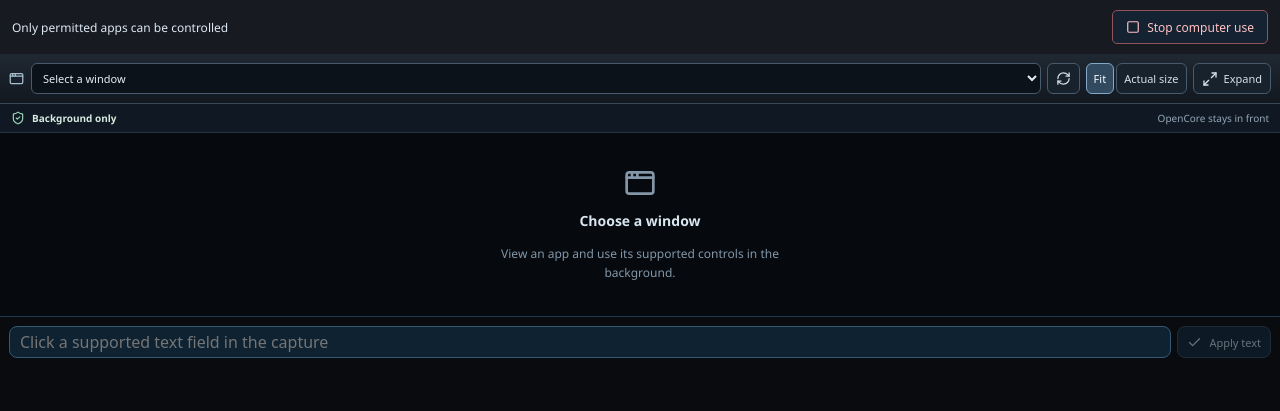
Test: shows a capture failure instead of an endless capturing message
The image size is (1280, 411).
Select "Notes" in the dropdown named "Window" at (536, 78), box top-left (31, 63), bottom-right (1041, 94)
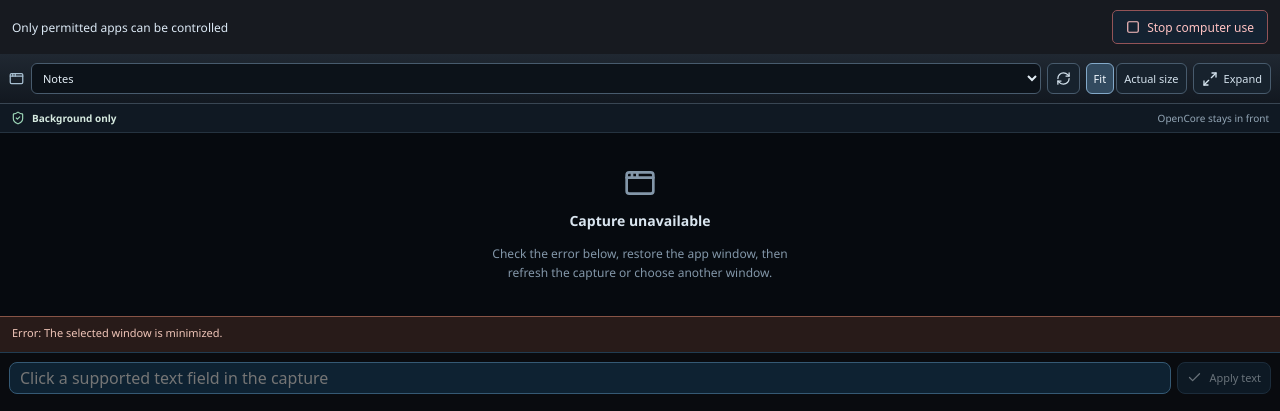
Expected: the button named "Refresh capture" is enabled, top-left (1047, 63), bottom-right (1080, 94)
Result: the text "Capture unavailable" is shown at top-left (569, 212), bottom-right (711, 231)
Result: the message shows "The selected window is minimized." at top-left (12, 326), bottom-right (222, 341)
